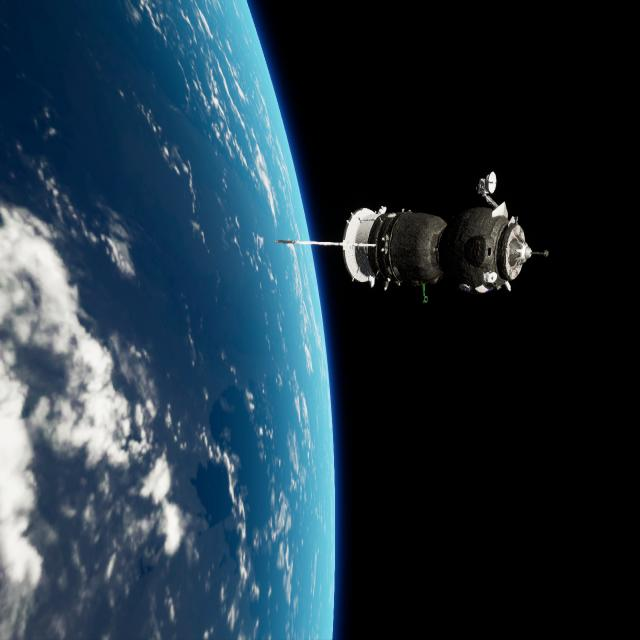Satellites revolving around earth: (1, 1, 337, 638), (273, 169, 549, 303)
